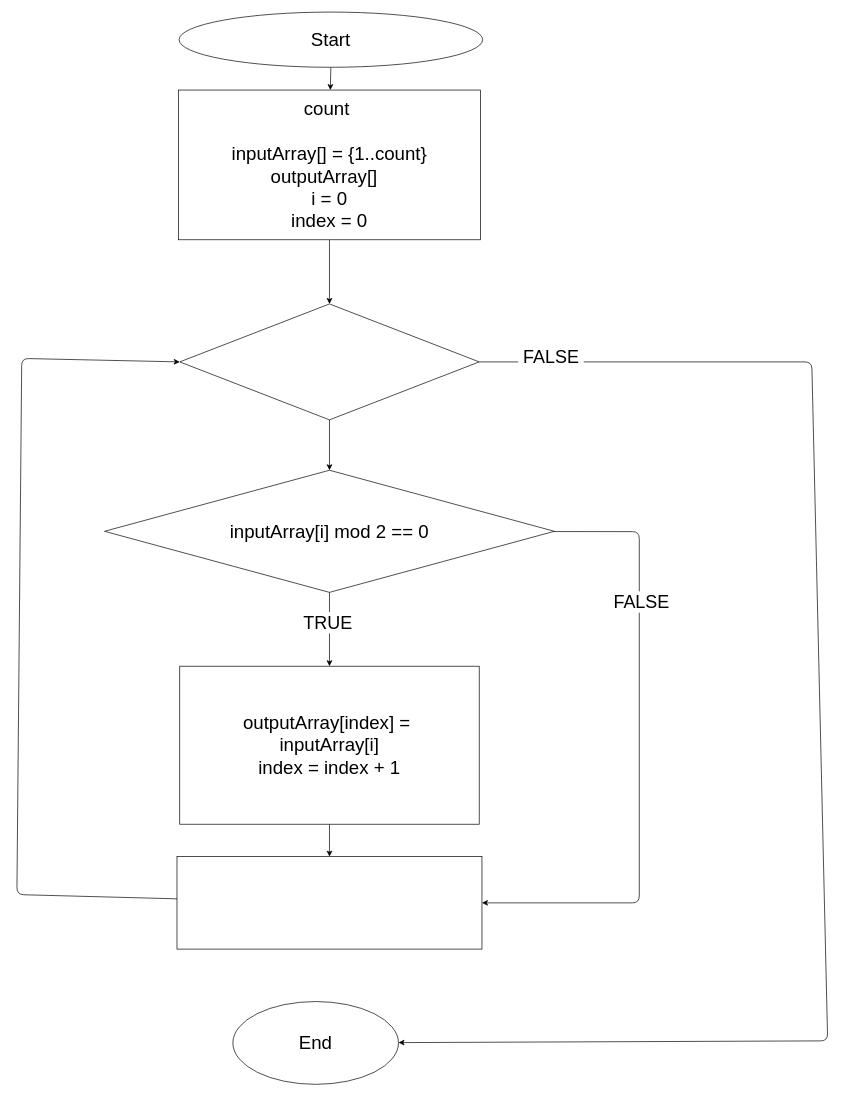
Some shapes in this 845 by 1096 pixel diagram are drawn without their labels. Each missing label, with the box of its shape:
i < count: (179, 303, 479, 420)
i = i + 1: (176, 856, 482, 949)
